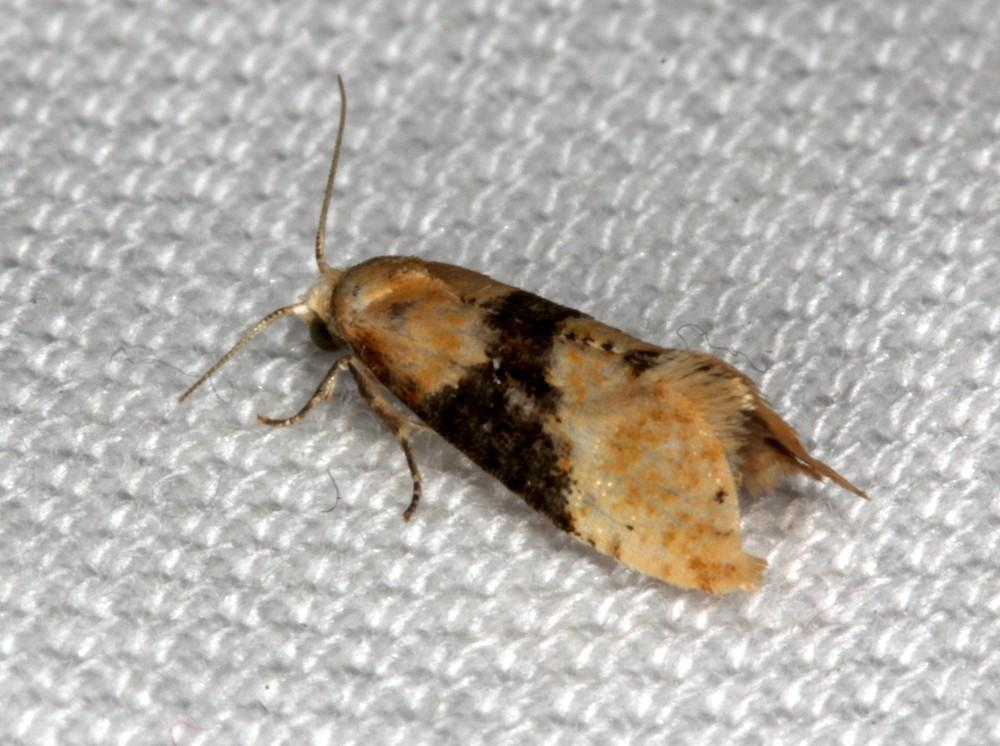Eupoecilia Ambiguella: (173, 72, 873, 599)
